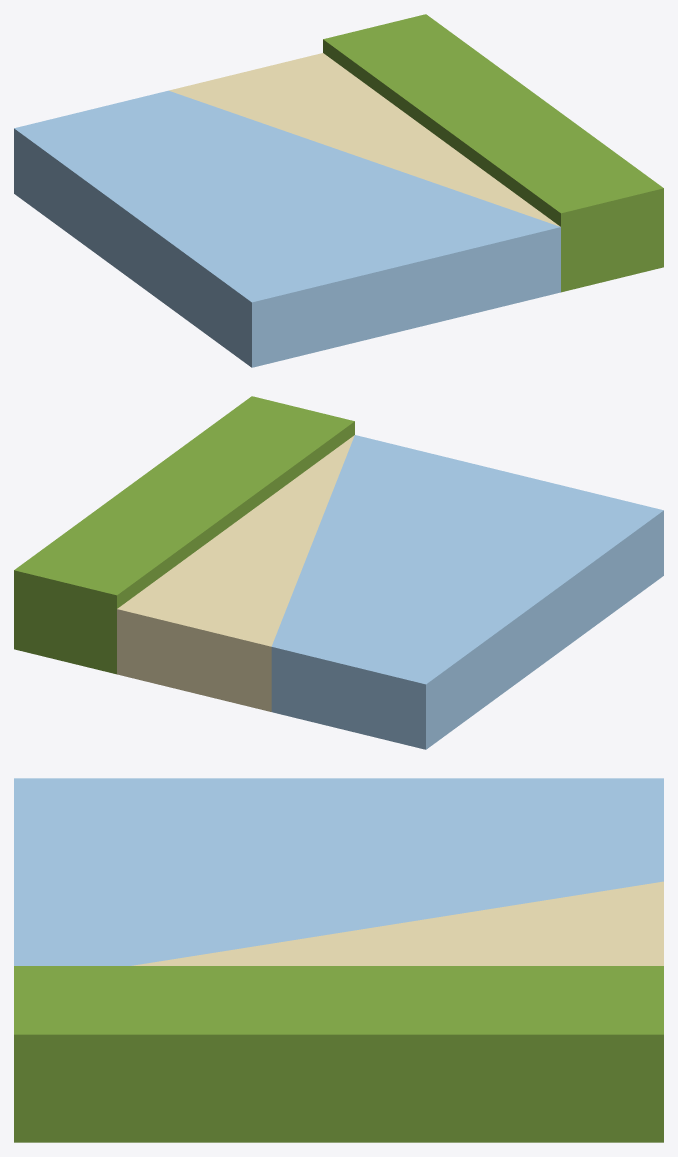
The model's file is tile125.fbx.
3 views of the same model, one above another, from view 1: azimuth 30°, elevation 25°; view 2: azimuth 150°, elevation 25°; view 3: azimuth 270°, elevation 25° (orthographic). The views are drawn at different scales.
Visible parts, largest first — view 1: tile125; view 2: tile125; view 3: tile125.
Part boxes in pixels (left/top/right/bottom): tile125: left=14, top=14, right=663, bottom=367; tile125: left=14, top=396, right=663, bottom=749; tile125: left=14, top=778, right=663, bottom=1142.
Size of the model in its own units: 10 by 1.83 by 10.
